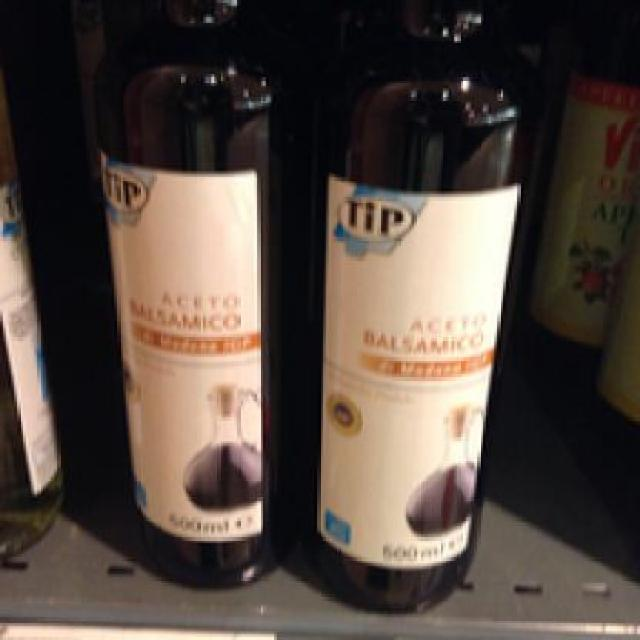Vinegar: (311, 0, 540, 615), (85, 0, 298, 589)
